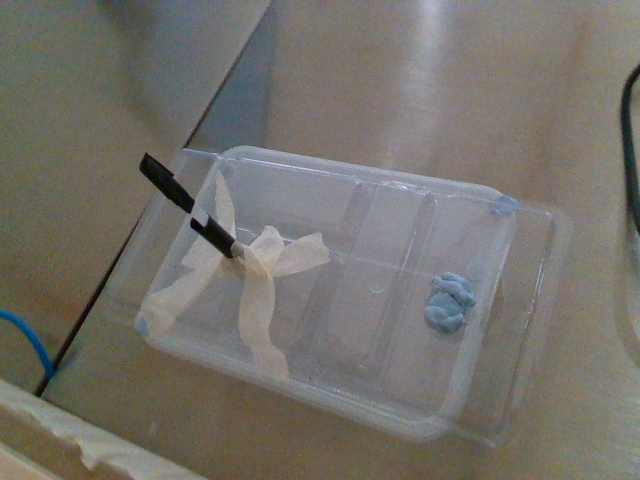test_strip: (138, 152, 208, 227)
